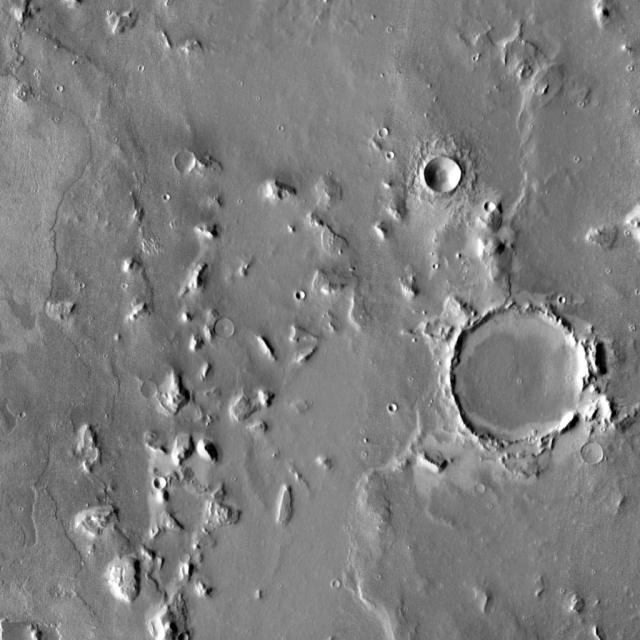crater: (277, 339, 423, 484), (451, 306, 591, 445), (338, 323, 442, 428), (428, 160, 464, 196), (583, 443, 606, 466), (178, 151, 200, 173), (216, 319, 236, 339), (143, 382, 160, 400), (487, 205, 498, 215), (154, 478, 165, 488), (298, 292, 308, 302), (477, 485, 487, 495), (183, 555, 193, 564), (380, 127, 389, 136), (335, 582, 343, 590), (180, 634, 190, 640), (554, 292, 562, 299), (388, 152, 395, 159), (386, 400, 393, 407), (160, 189, 166, 195)
